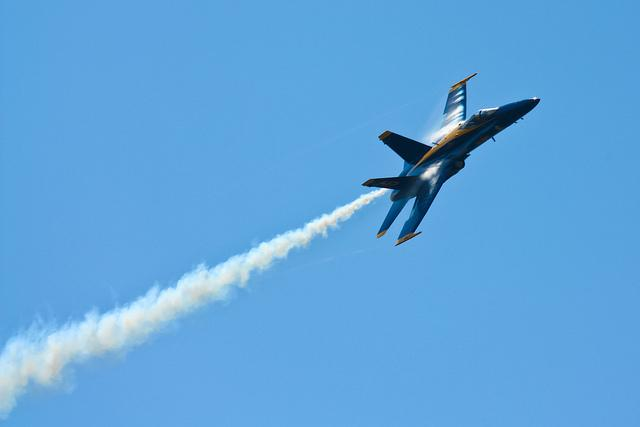airplane: (350, 64, 545, 259)
